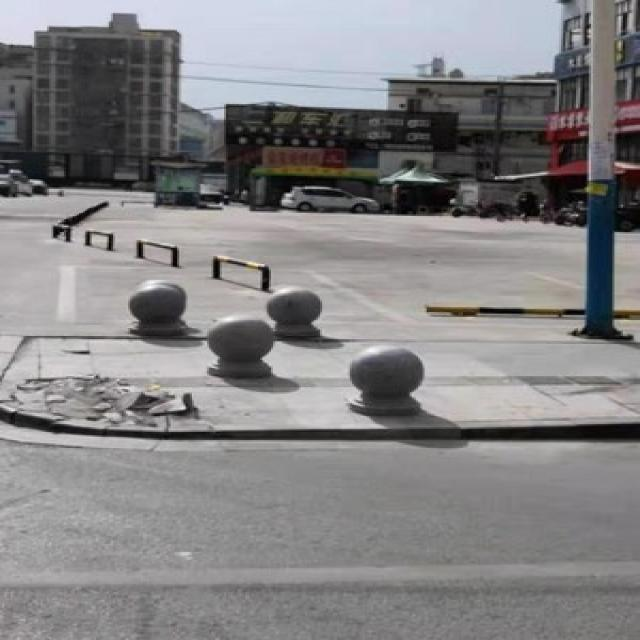car: (277, 181, 380, 213)
pole: (574, 43, 619, 336)
spherical_roadblock: (348, 342, 424, 413), (203, 312, 277, 378), (260, 282, 322, 338), (126, 283, 190, 333)
